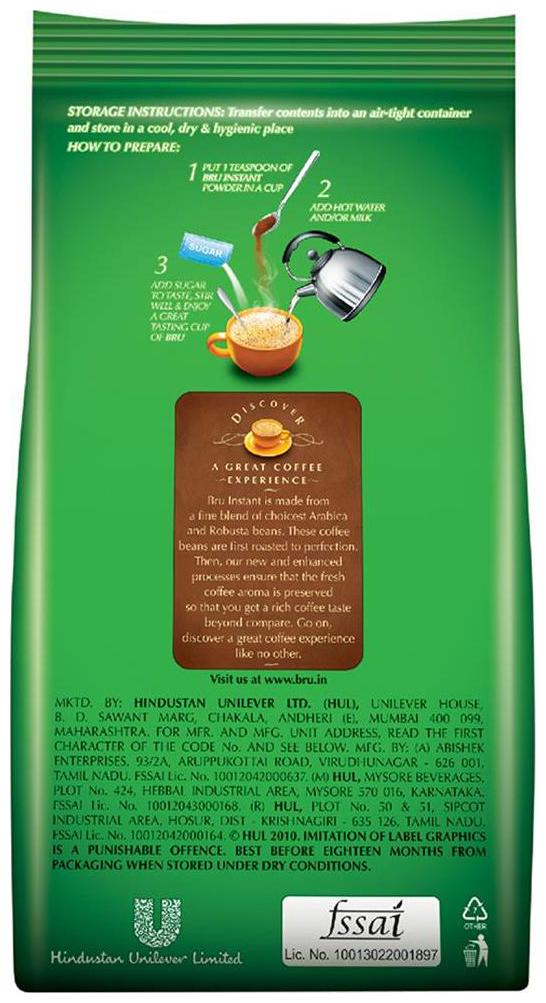fssai: (319, 898, 404, 940)
